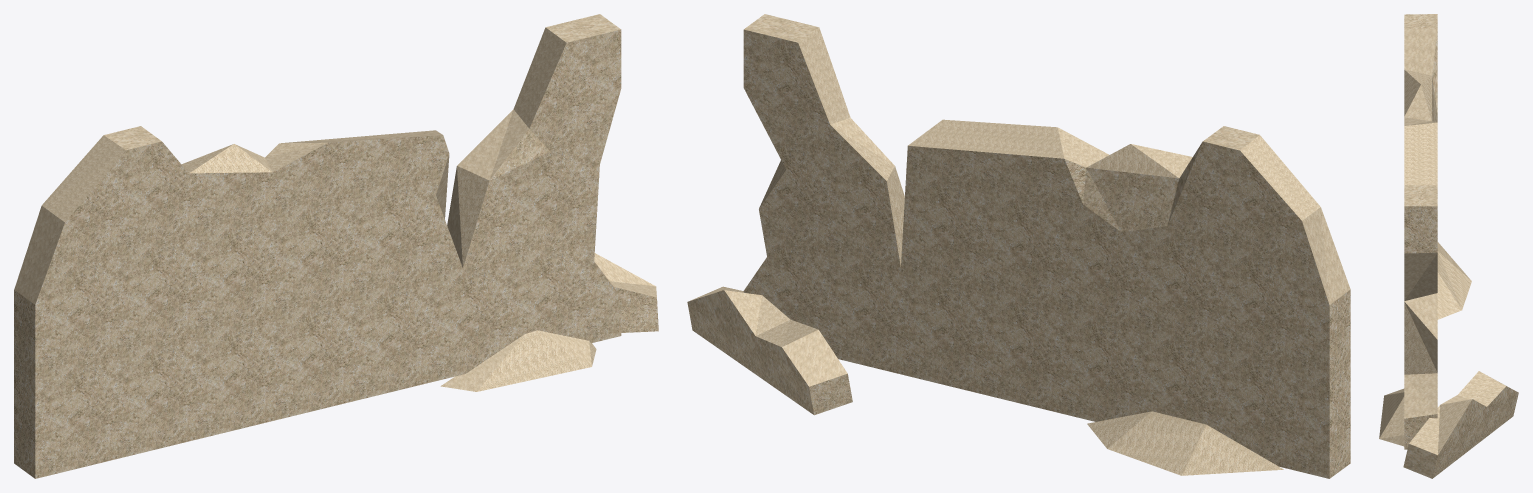
Rendered from thm_tato_imprv_wall_ruin_s02_l2.fbx.
3 renders of one model, left to right at view 1: azimuth 30°, elevation 25°; view 2: azimuth 150°, elevation 25°; view 3: azimuth 270°, elevation 25°, orthographic. The views are drawn at different scales.
Visible parts, largest first — view 1: mesh_node; view 2: mesh_node; view 3: mesh_node.
Part boxes in pixels (left/top/right/bottom): mesh_node: left=14, top=14, right=658, bottom=478; mesh_node: left=687, top=14, right=1350, bottom=478; mesh_node: left=1379, top=14, right=1518, bottom=478.
Size of the model in its own units: 8.77 by 4.2 by 2.08.
